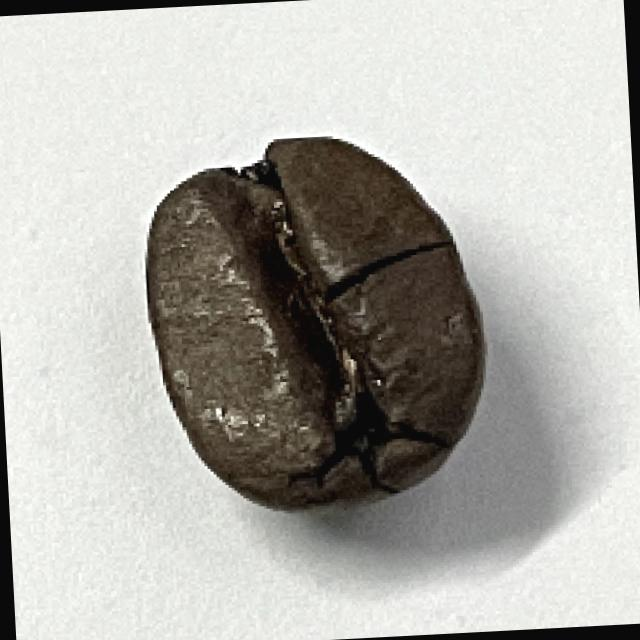bean: (132, 125, 498, 522)
